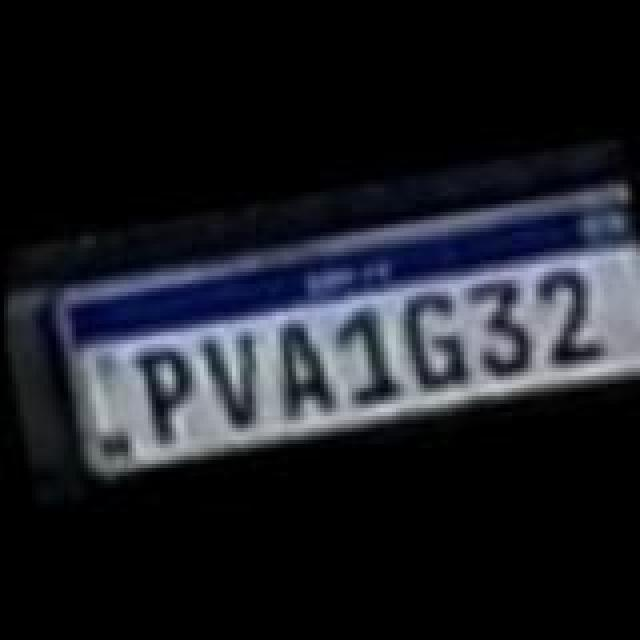1: (320, 292, 404, 412)
2: (518, 258, 610, 374)
3: (458, 268, 542, 388)
A: (260, 308, 344, 424)
G: (386, 282, 478, 394)
P: (124, 336, 200, 452)
V: (192, 320, 268, 428)
